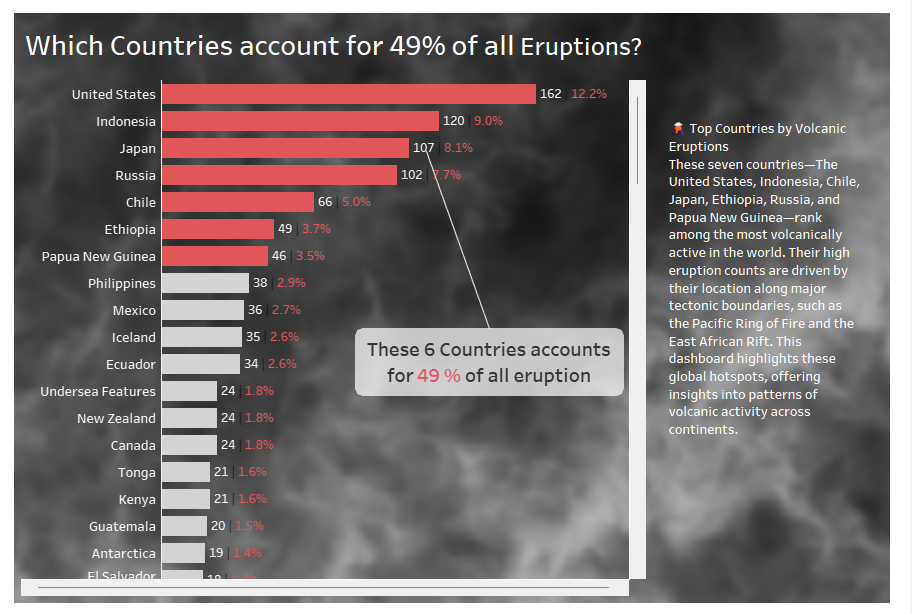

This screenshot's page, from the dashboard's own definition file:
{"tool":"tableau","page":{"name":"Eruption %","canvas":[900,614],"ordinal":0},"visuals":[{"type":"image","param":"Image/Volcanic ash 4.png","box":[8,8,884,598]},{"type":"title","box":[20,22,632,42]},{"type":"text","box":[663.9,77.3,201.4,406.3]},{"type":"worksheet","title":"Country Count","mark":"Automatic","rows":["Country"],"cols":["Calculation_5282440897060102144"],"box":[19.3,79.3,625.4,515.7]}]}

Visuals, with their boxes in screenshot pixels (x1, y1, x2, y2), scaled from the page's 900x614 canvas onto the 912x614 screenshot:
image: pyautogui.locateOnScreen(8, 8, 904, 606)
title: pyautogui.locateOnScreen(20, 22, 661, 64)
text: pyautogui.locateOnScreen(673, 77, 877, 484)
"Country Count" worksheet: pyautogui.locateOnScreen(20, 79, 653, 595)
